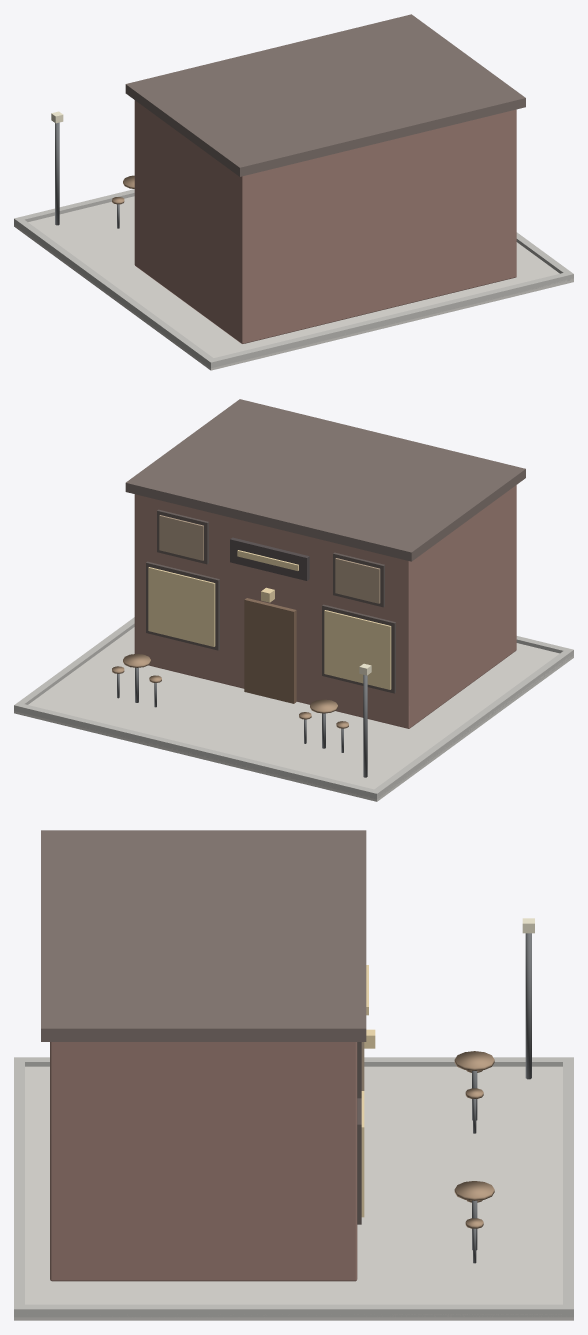
File: mapa.bar.fbx
3 views of the same model, one above another, from view 1: azimuth 30°, elevation 25°; view 2: azimuth 150°, elevation 25°; view 3: azimuth 270°, elevation 25° (orthographic). The views are drawn at different scales.
Parts seen in each view (by area): view 1: Bar, Cornisa, Vereda, Solera.001, Solera.003, Solera, Solera.002, Poste del farol; view 2: Bar, Cornisa, Vereda, Puerta, Vidrio, Vidrio.002, Solera, Solera.003, Letrero, Vidrio.003, Vidrio.001, Solera.002 (+5 smaller); view 3: Bar, Cornisa, Vereda, Solera.002, Solera.001, Solera, Solera.003, Poste del farol, Mesa alta, Mesa alta.001, Marco.
Part boxes in pixels (<box>): Bar: <box>134,100,516,343</box>; Cornisa: <box>125,14,525,176</box>; Vereda: <box>14,196,573,370</box>; Solera.001: <box>207,273,573,368</box>; Solera.003: <box>14,219,217,367</box>; Solera: <box>14,189,134,225</box>; Solera.002: <box>516,232,572,281</box>; Poste del farol: <box>55,122,59,225</box>; Bar: <box>134,485,516,728</box>; Cornisa: <box>125,399,525,561</box>; Vereda: <box>14,627,573,801</box>; Puerta: <box>244,598,296,703</box>; Vidrio: <box>148,567,215,646</box>; Vidrio.002: <box>324,610,391,689</box>; Solera: <box>14,704,380,799</box>; Solera.003: <box>371,648,573,798</box>; Letrero: <box>230,537,309,580</box>; Vidrio.003: <box>335,558,380,603</box>; Vidrio.001: <box>159,515,203,560</box>; Solera.002: <box>14,617,134,706</box>; Bar: <box>50,1042,357,1281</box>; Cornisa: <box>41,830,366,1041</box>; Vereda: <box>14,1066,573,1320</box>; Solera.002: <box>14,1304,573,1317</box>; Solera.001: <box>14,1057,24,1317</box>; Solera: <box>563,1057,573,1317</box>; Solera.003: <box>14,1057,573,1066</box>; Poste del farol: <box>525,933,531,1079</box>; Mesa alta: <box>454,1181,494,1200</box>; Mesa alta.001: <box>454,1051,494,1070</box>; Marco: <box>357,1098,361,1224</box>.
Size of the model in its own units: 3.3 by 1.62 by 3.1.
